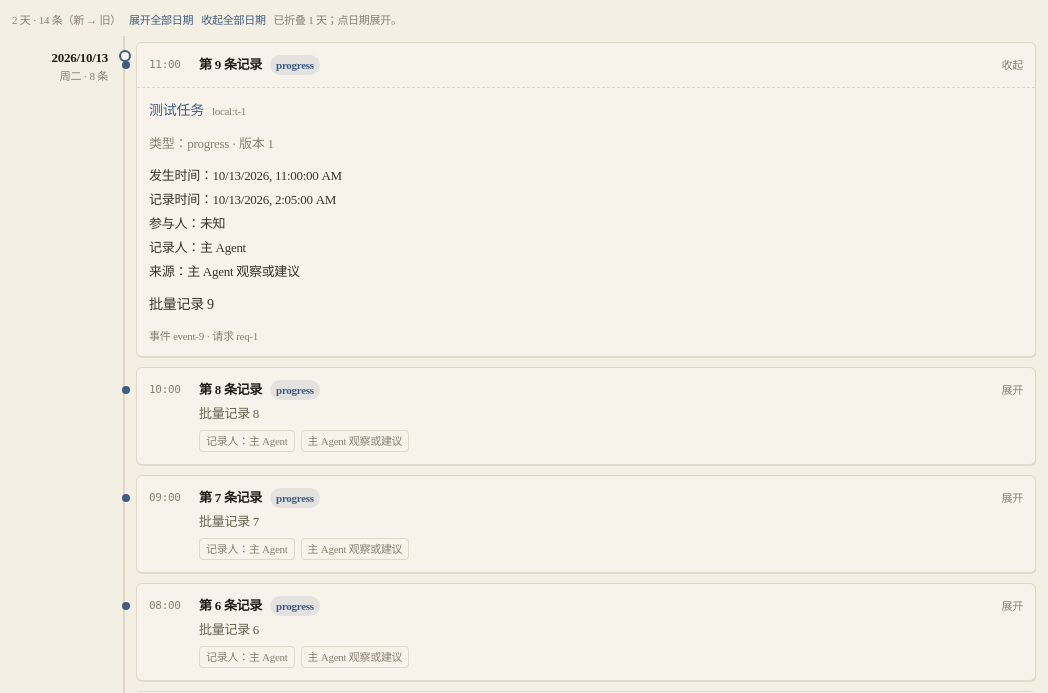
Test: 事件时间线展开与折叠 › 记录很多时默认折叠除最新一天以外的日期，并如实说明折叠了几条
This screenshot has width=1048, height=693.
Expected: the text "已折叠 1 天；点日期展开。" is shown, [274,12,402,28]
Click the button "展开全部日期": (161, 20) [129,12,193,28]
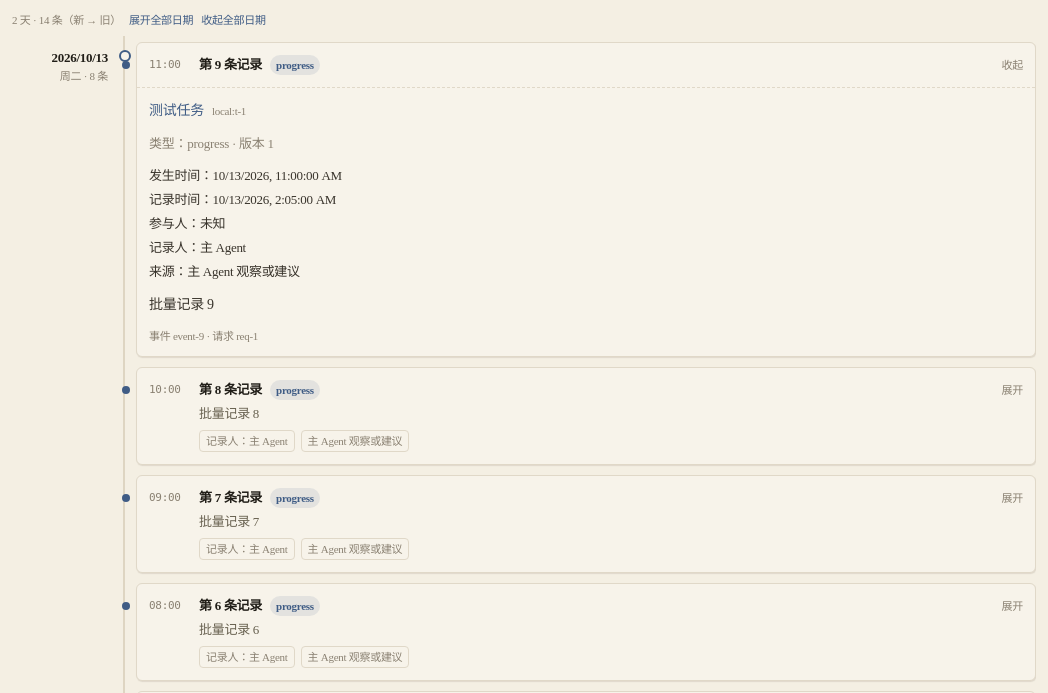
Now the text "已折叠" is gone
